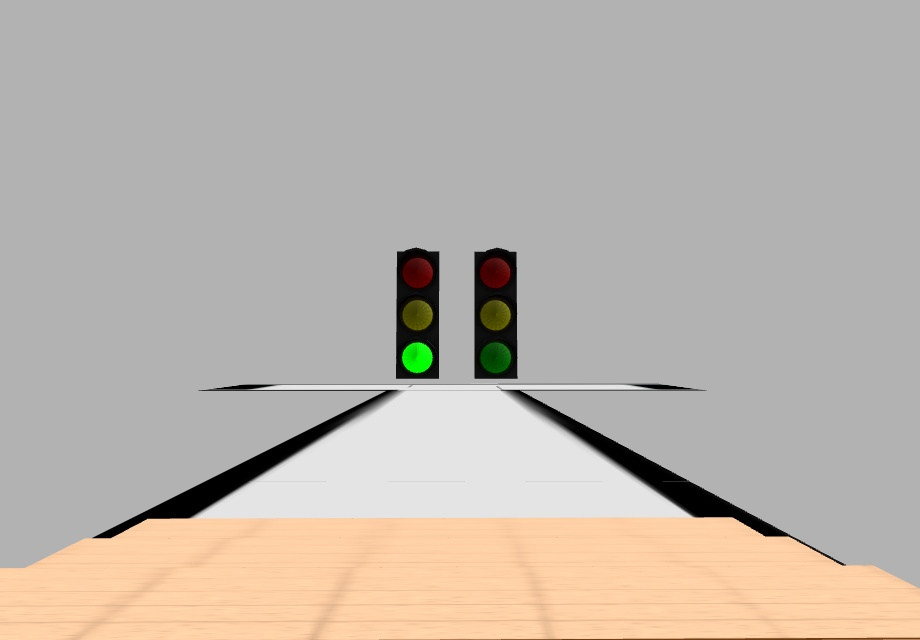green_off: (476, 337, 515, 377)
green_on: (398, 337, 436, 377)
